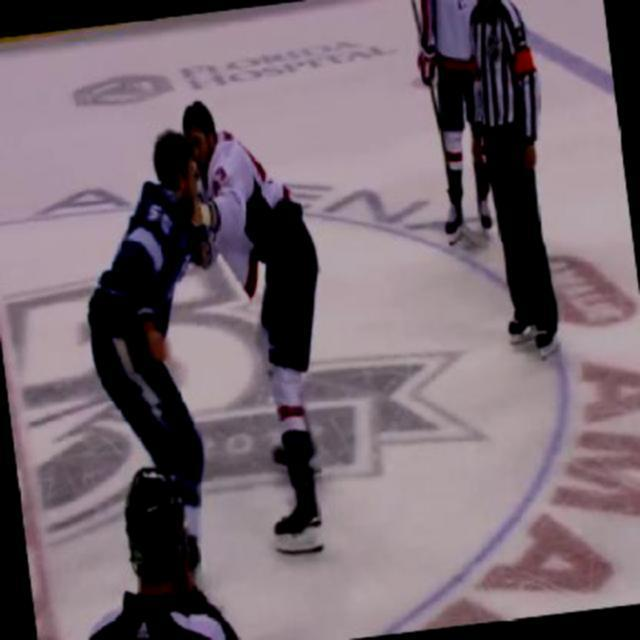fight: (66, 89, 345, 518)
